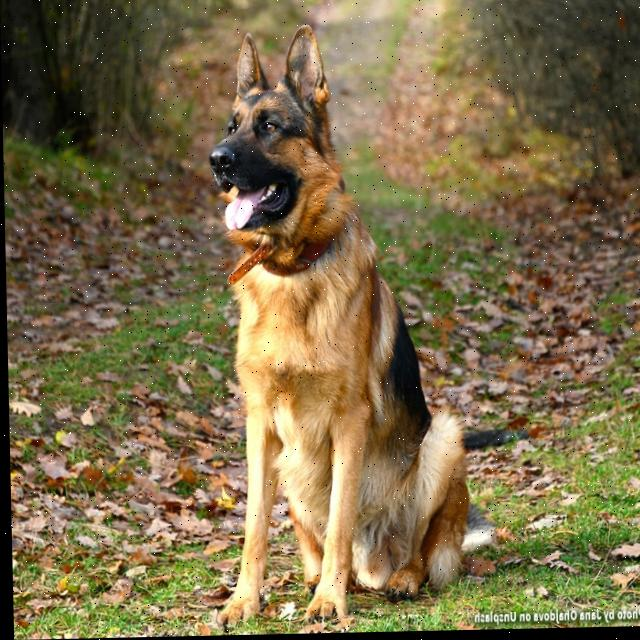GERMAN_SHEPHERD: (188, 24, 498, 633)
